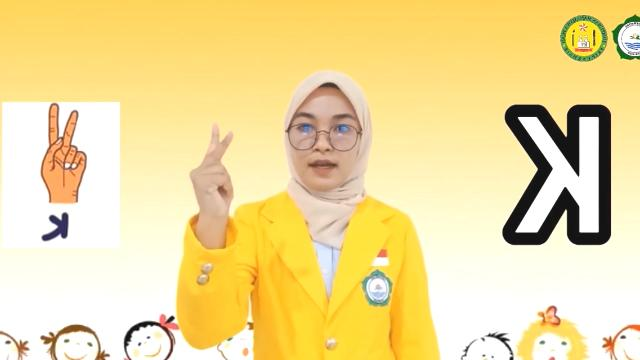K: (180, 119, 246, 228)
